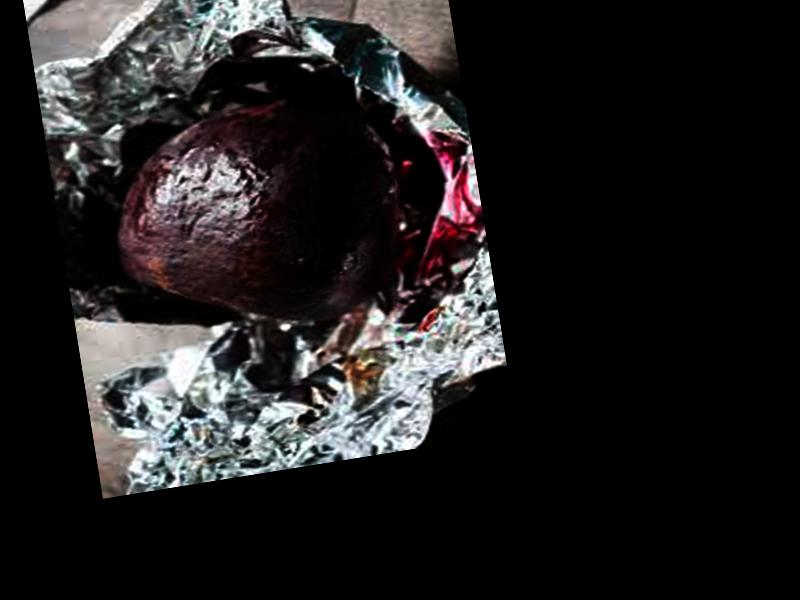Beet: (96, 82, 405, 351)
